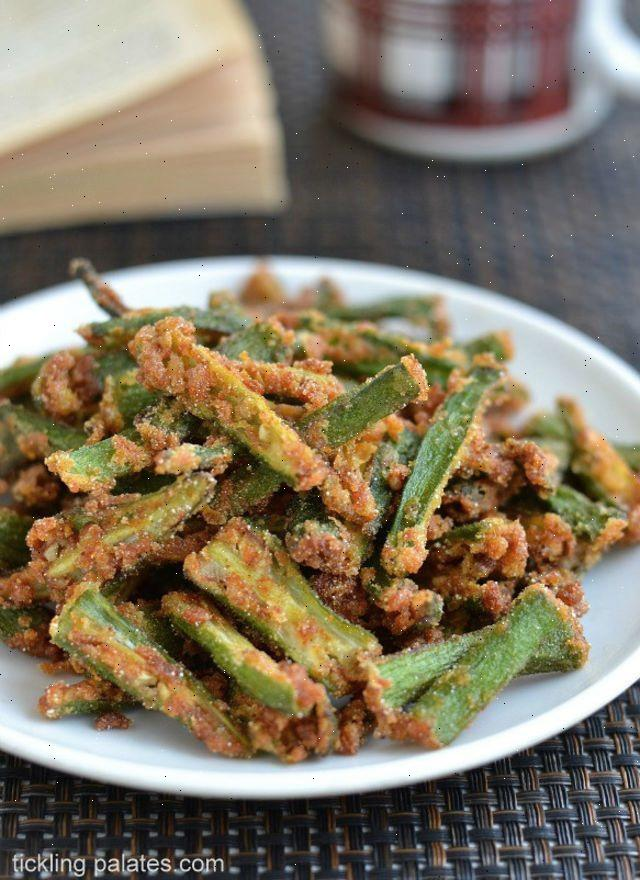bhindi: (2, 362, 575, 706)
